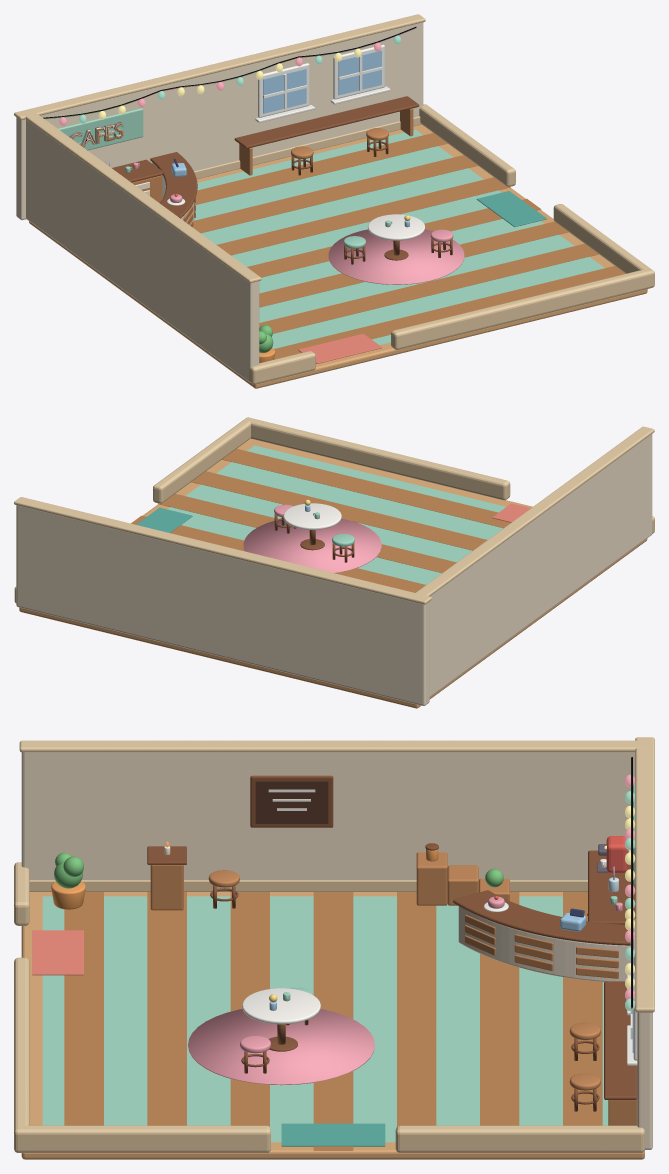
The model's file is room_cafe.glb.
3 views of the same model, one above another, from view 1: azimuth 30°, elevation 25°; view 2: azimuth 150°, elevation 25°; view 3: azimuth 270°, elevation 25° (orthographic). The views are drawn at different scales.
Visible parts, largest first — view 1: NAV_floor, wall_W, wall_N, wall_S_low_1, floor_plank_3, rug, floor, floor_plank_11, floor_plank_9, wall_N_cap, floor_plank_1, floor_plank_13 (+20 smaller); view 2: wall_N, wall_W, NAV_floor, wall_S_low_1, floor, rug, wall_N_cap, floor_plank_1, floor_plank_3, wall_W_cap, floor_plank_5, wall_E_low_a (+3 smaller); view 3: wall_W, NAV_floor, rug, floor, floor_plank_9, floor_plank_3, floor_plank_1, wall_W_cap, floor_plank_7, wall_E_low_b, wall_E_low_a, floor_plank_11 (+24 smaller).
Boxes of the visible parts, left/top/right/bottom form: NAV_floor: left=194, top=129, right=604, bottom=348; wall_W: left=26, top=119, right=259, bottom=382; wall_N: left=16, top=22, right=423, bottom=220; wall_S_low_1: left=391, top=268, right=654, bottom=349; floor_plank_3: left=259, top=243, right=598, bottom=333; rug: left=328, top=229, right=464, bottom=284; floor: left=29, top=124, right=647, bottom=388; floor_plank_11: left=192, top=155, right=477, bottom=233; floor_plank_9: left=217, top=177, right=510, bottom=255; wall_N_cap: left=14, top=14, right=425, bottom=120; floor_plank_1: left=274, top=266, right=625, bottom=359; floor_plank_13: left=162, top=133, right=447, bottom=204; wall_N: left=16, top=505, right=429, bottom=705; wall_W: left=429, top=434, right=652, bottom=697; NAV_floor: left=167, top=445, right=506, bottom=584; wall_S_low_1: left=244, top=417, right=510, bottom=500; floor: left=19, top=438, right=647, bottom=708; rug: left=243, top=518, right=381, bottom=573; wall_N_cap: left=14, top=497, right=431, bottom=604; floor_plank_1: left=222, top=449, right=510, bottom=528; floor_plank_3: left=191, top=471, right=487, bottom=550; wall_W_cap: left=413, top=426, right=654, bottom=597; floor_plank_5: left=158, top=493, right=456, bottom=572; wall_E_low_a: left=153, top=419, right=250, bottom=503; wall_W: left=21, top=752, right=635, bottom=879; NAV_floor: left=42, top=896, right=608, bottom=1142; rug: left=188, top=1009, right=374, bottom=1085; floor: left=21, top=892, right=644, bottom=1159; floor_plank_9: left=397, top=892, right=436, bottom=1126; floor_plank_3: left=147, top=892, right=186, bottom=1125; floor_plank_1: left=64, top=892, right=103, bottom=1125; wall_W_cap: left=19, top=740, right=645, bottom=752; floor_plank_7: left=313, top=892, right=353, bottom=1150; wall_E_low_b: left=395, top=1125, right=644, bottom=1152; wall_E_low_a: left=25, top=1125, right=270, bottom=1152; floor_plank_11: left=480, top=892, right=519, bottom=1125.
Bounding box in the file's own units: 6.25 × 1.63 × 6.17.
2 materials, 2 textured.
